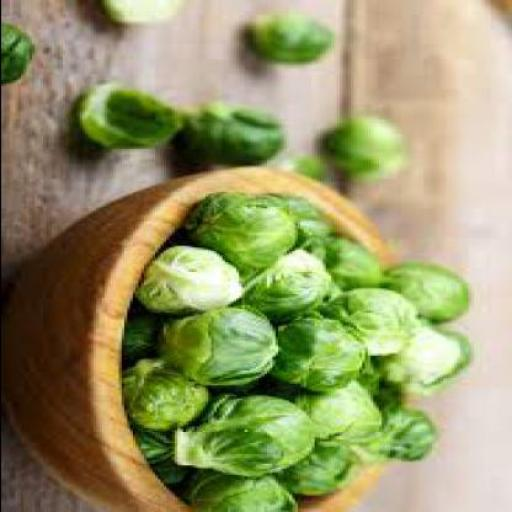biodegradable: (174, 393, 318, 480), (165, 301, 283, 389), (191, 190, 299, 276), (277, 312, 369, 392), (79, 81, 187, 147), (177, 101, 285, 167), (140, 244, 246, 311), (238, 246, 336, 318), (296, 378, 392, 449), (121, 356, 213, 428), (383, 320, 476, 391), (327, 288, 425, 352), (323, 118, 411, 176), (387, 262, 470, 320), (182, 472, 302, 510), (285, 436, 364, 490), (252, 9, 333, 61), (372, 408, 439, 460), (134, 423, 193, 482), (324, 237, 384, 289), (294, 194, 336, 259), (120, 307, 162, 364), (2, 22, 37, 80), (101, 0, 182, 25), (364, 364, 408, 410), (299, 155, 330, 179)
